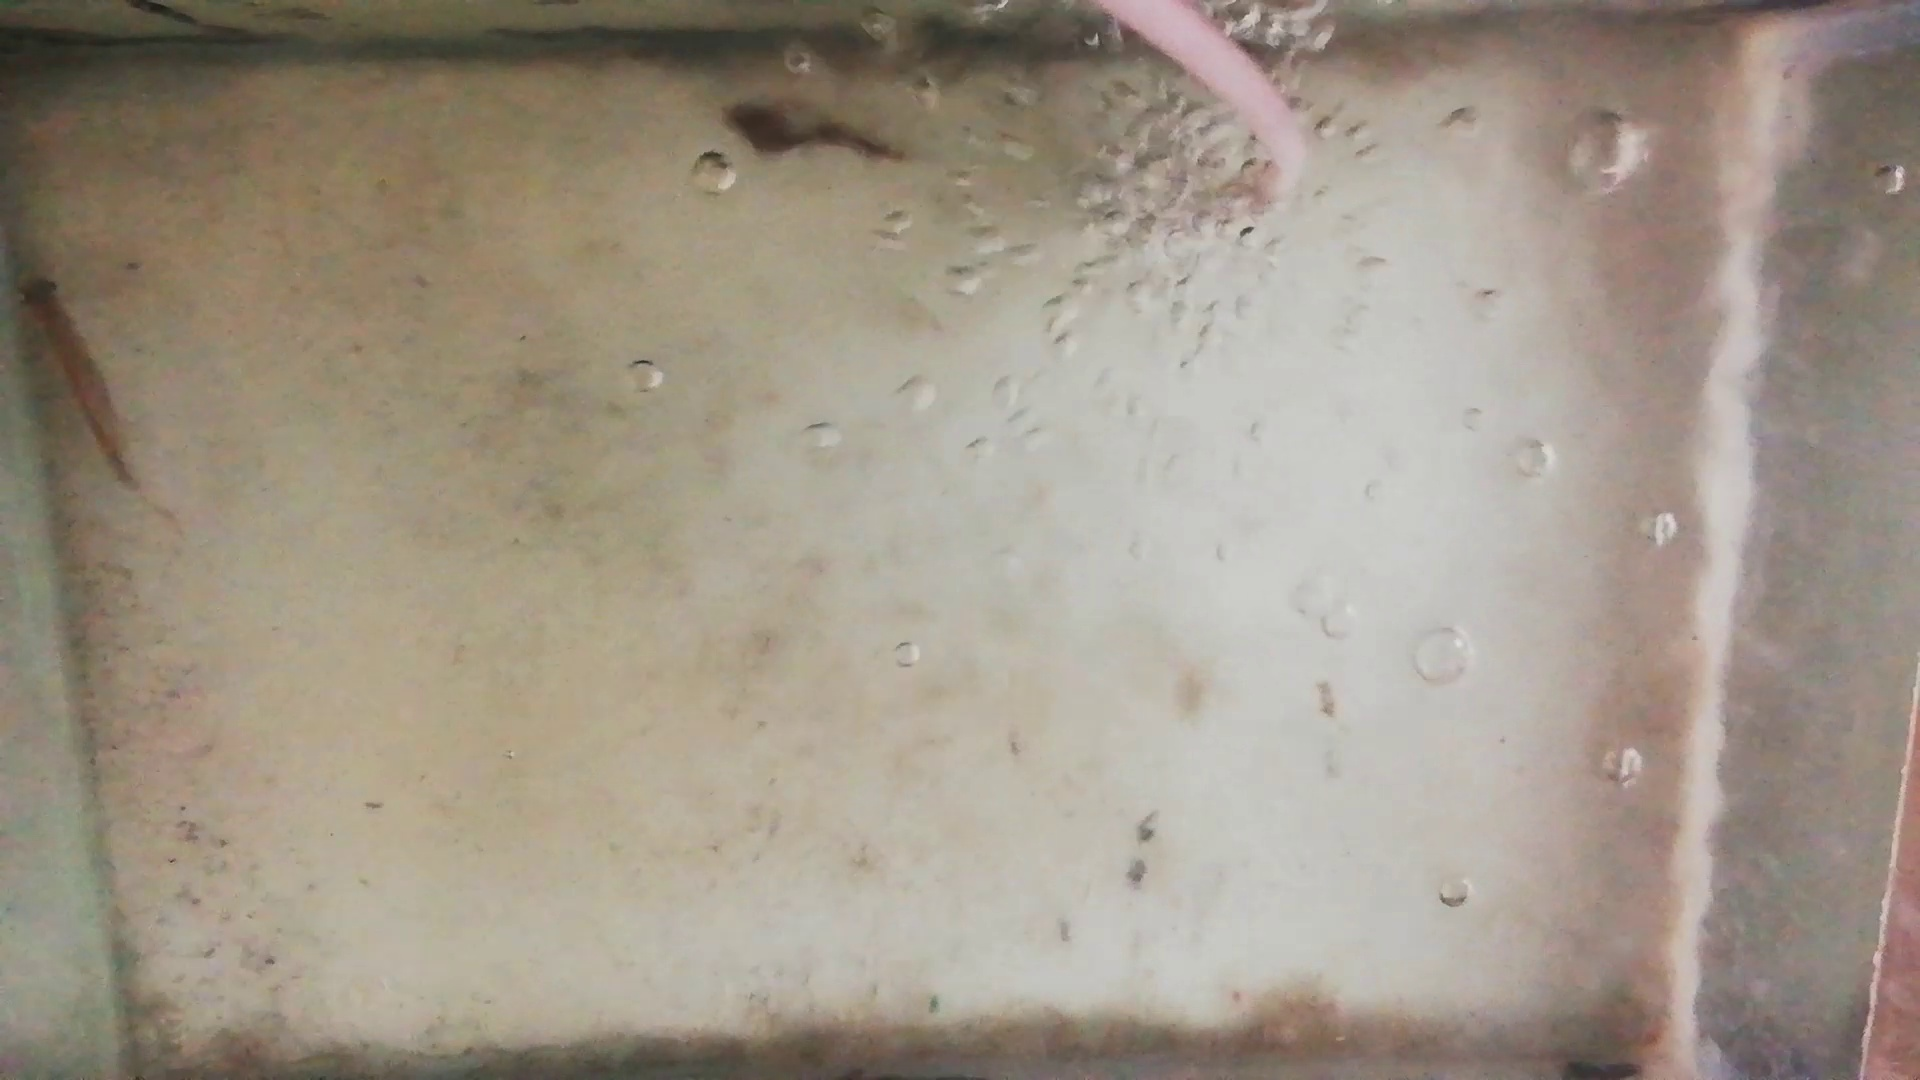fish: (21, 266, 137, 481), (709, 103, 905, 164)
